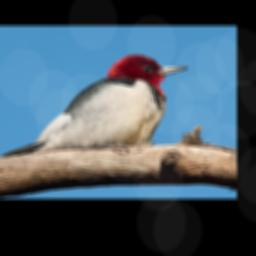Woodpecker: (0, 55, 188, 157)
